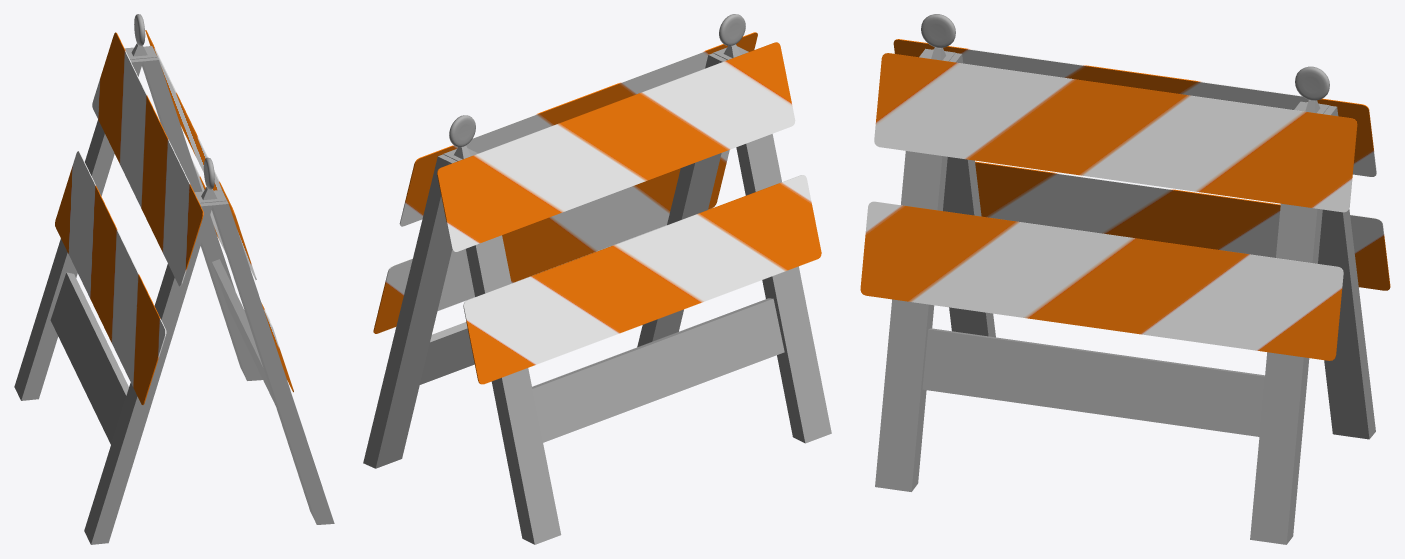
The model's file is barricade.fbx.
3 views of the same model, side by side, from view 1: azimuth 30°, elevation 25°; view 2: azimuth 150°, elevation 25°; view 3: azimuth 270°, elevation 25° (orthographic). The views are drawn at different scales.
Visible parts, largest first — view 1: Object_25, Object_23; view 2: Object_23, Object_25; view 3: Object_23, Object_25.
Part boxes in pixels (x1=…): Object_25: x1=14, y1=14, x2=334, y2=544; Object_23: x1=55, y1=30, x2=293, y2=404; Object_23: x1=373, y1=32, x2=821, y2=384; Object_25: x1=363, y1=14, x2=831, y2=544; Object_23: x1=860, y1=39, x2=1390, y2=360; Object_25: x1=875, y1=14, x2=1375, y2=544.
Size of the model in its own units: 106 by 121 by 139.
2 materials, 2 textured.
